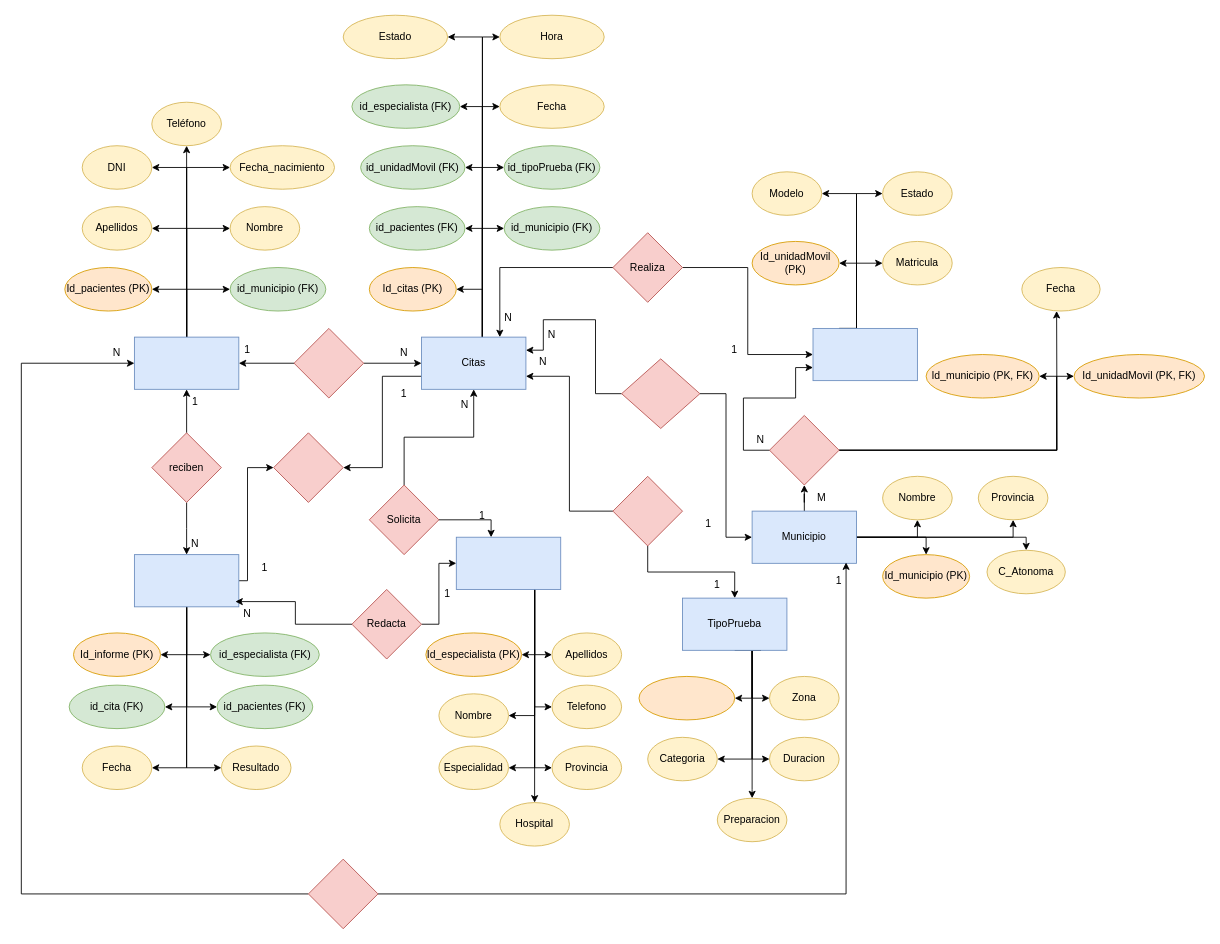
Some shapes in this 1220 by 944 pixel diagram are drawn without their labels. The centre of each missing label's shape, as x and y in pixels:
atiende: the point at 804,450
determina: the point at 647,510
Especialista: the point at 508,562
Genera: the point at 308,467
Id_tipoPrueba (PK): the point at 686,698
Informe: the point at 186,580
Pacientes: the point at 186,362
tienen: the point at 328,363
TienenLugar: the point at 660,393
UnidadMovil: the point at 864,354
Vive: the point at 343,893
